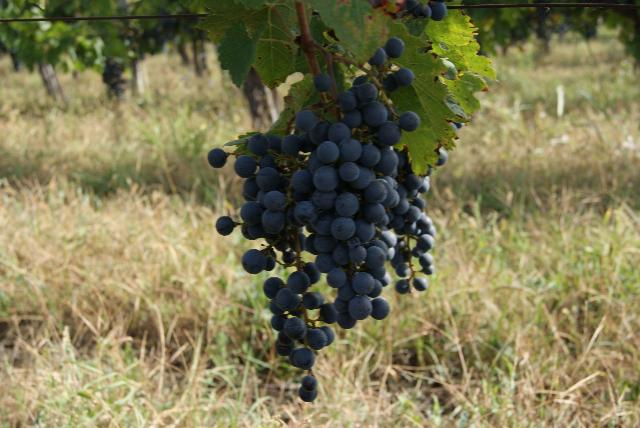grapes: (285, 40, 435, 329), (235, 134, 338, 402)
